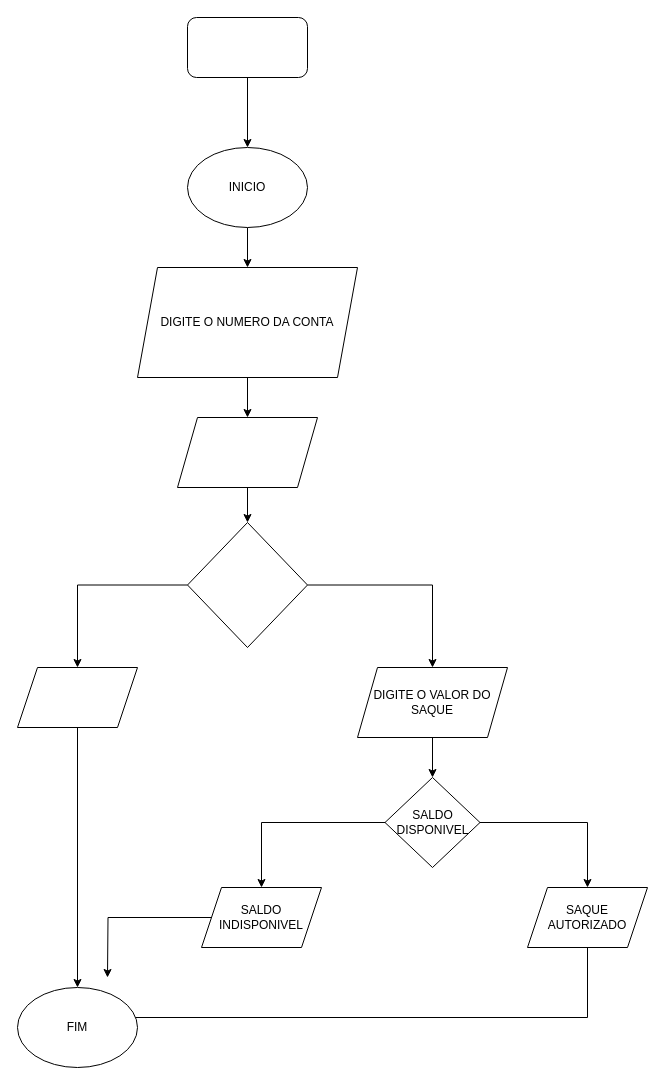
The diagram is 665 pixels wide and 1085 high, and some of its shapes have lost their labels. Each missing label, with the centre of its shape:
DADOS DA CONTA: point (247, 452)
DADOS EXISTEM: point (247, 585)
DADOS INCORRETOS: point (77, 697)
SAQUE DE DINHEIRO: point (247, 47)
